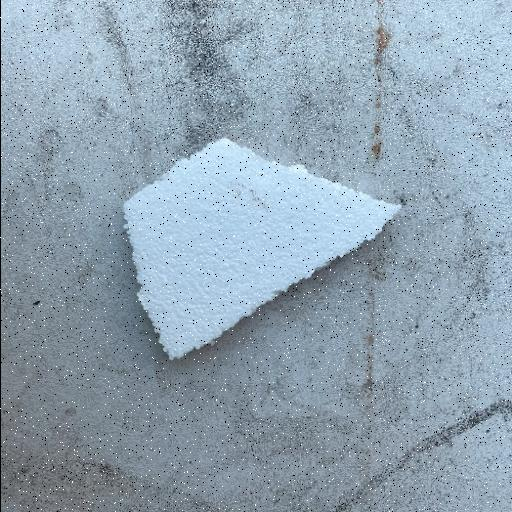Plastic: (119, 134, 403, 362)
